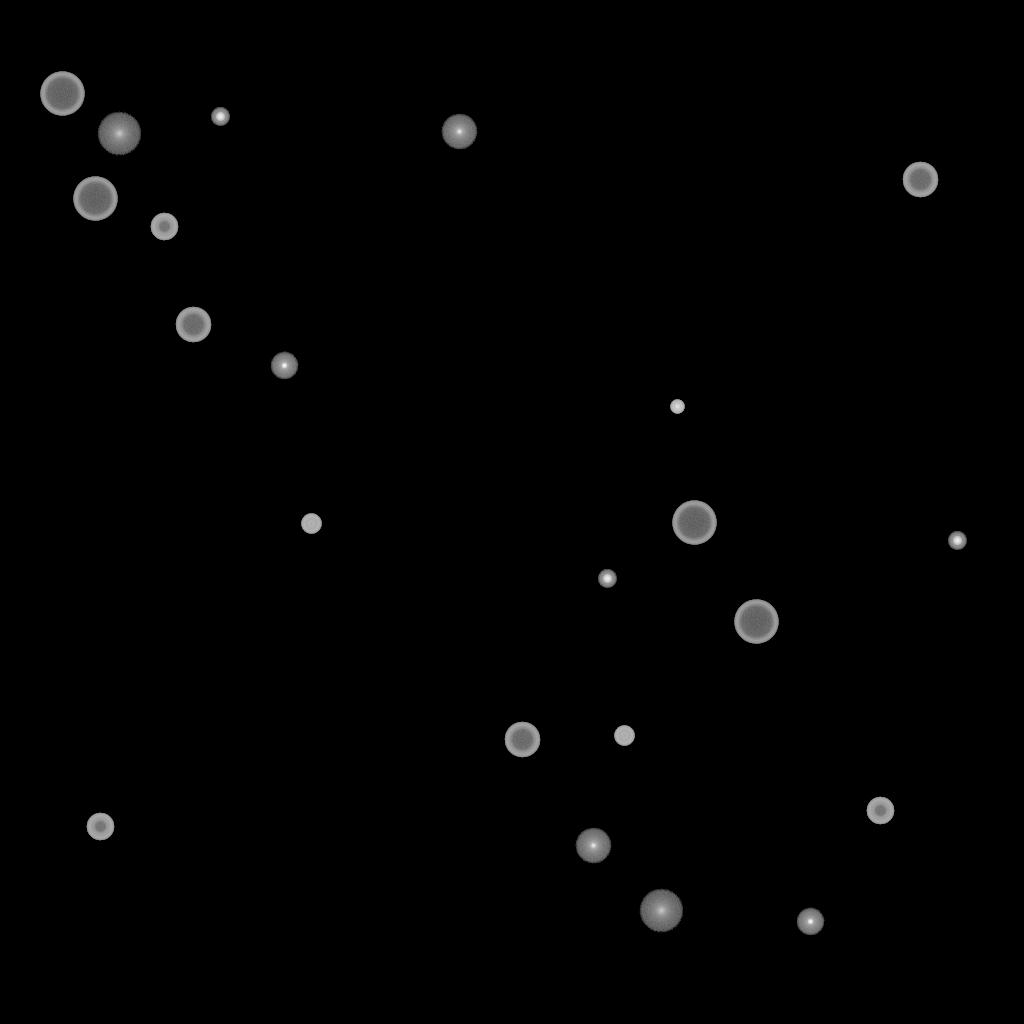depth:-10: (270, 352, 298, 380), (796, 908, 824, 936)
depth:-20: (948, 532, 966, 550), (211, 108, 229, 126), (598, 570, 616, 588)
depth:-30: (670, 400, 684, 414)
depth:-40: (301, 514, 321, 534), (614, 726, 634, 746)
depth:-50: (150, 213, 178, 241), (866, 797, 894, 825), (86, 813, 114, 841)
depth:-60: (504, 722, 540, 758), (175, 307, 211, 343), (902, 162, 938, 198)
depth:-70: (73, 177, 117, 221), (672, 501, 716, 545), (734, 600, 778, 644), (40, 72, 84, 116)
depth:0: (575, 828, 611, 864), (441, 114, 477, 150)
depth:10: (97, 112, 141, 156), (639, 889, 683, 933)
